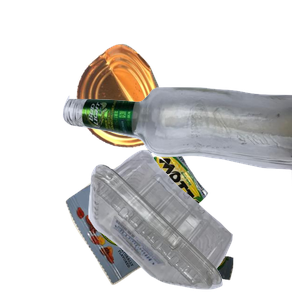glass: (60, 84, 300, 260)
metal: (74, 41, 229, 181)
plastic: (86, 147, 300, 300)
trash: (63, 137, 289, 300)
